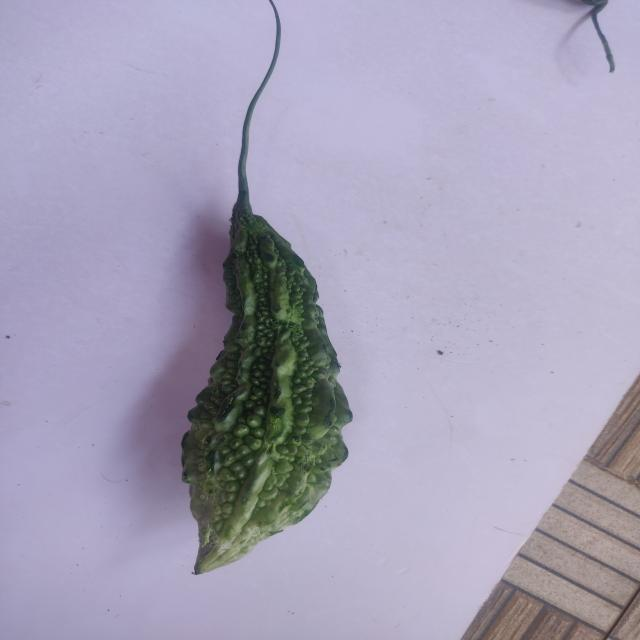Bitter Gourd: (166, 79, 367, 608)
